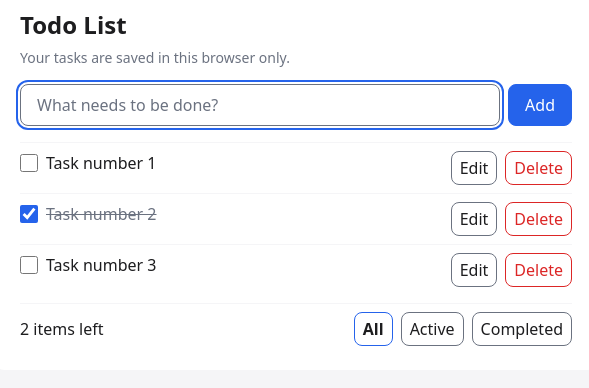
App: edit a task › saves with Enter, keeps position and complete state, and a reload keeps it (AC4.1.2, AC4.1.5)
This screenshot has width=589, height=388.
Click the button with test id "edit-button" in the row of "Task number 2". click: x=474, y=219
box: [451,202,497,236]
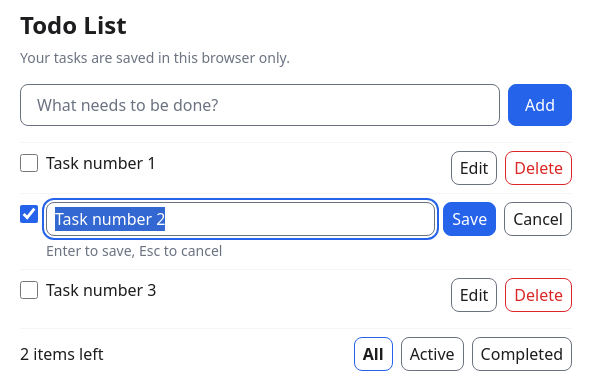
Clear the field with test id "task-edit-input". click: x=241, y=219
box: [46,202,435,236]
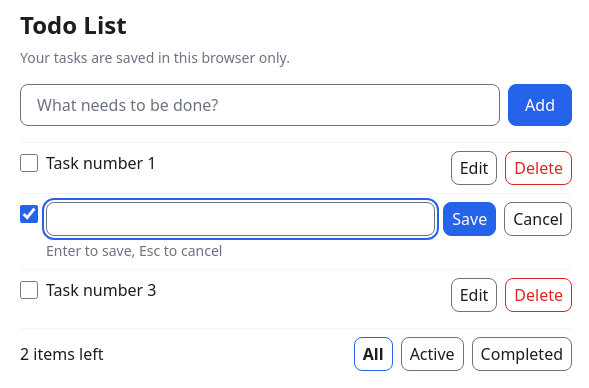
Type keys "  Renamed  {Enter}"
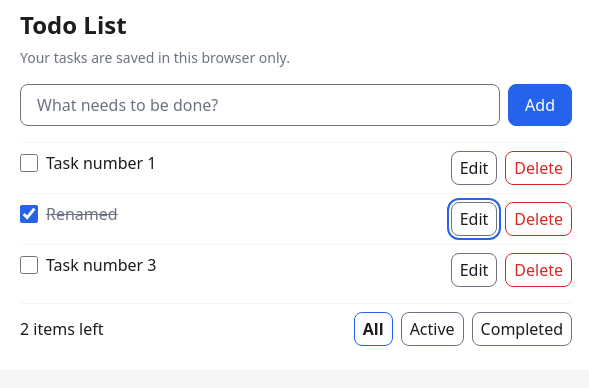
Expected: the checkbox with test id "task-checkbox" showing "Renamed" is checked, [20,205,38,223]
Now the form with test id "task-edit-form" is gone
Now the text "Renamed" is shown, box [46,203,118,225]
